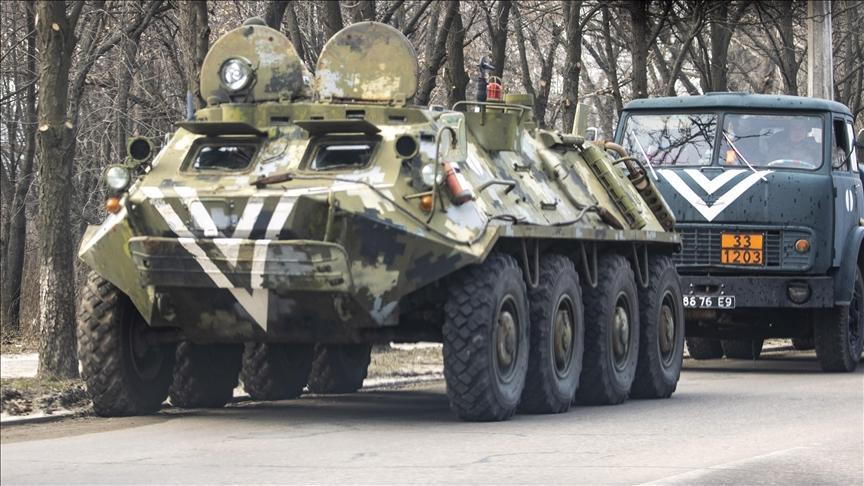tank: (77, 32, 674, 416)
truck: (614, 88, 864, 365)
